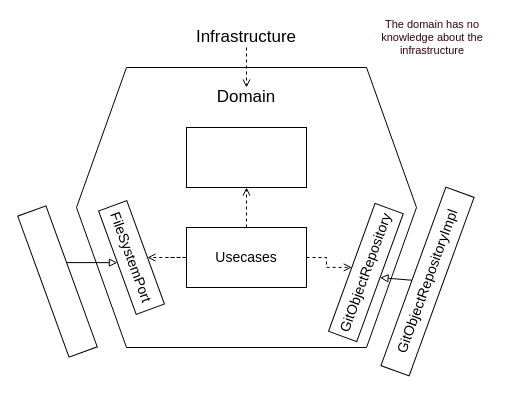
The diagram is 520 pixels wide and 394 high, and some of its shapes have lost their labels. The box of each missing label's shape, as (x1, y1, x2, y2) in pixels:
FileSystemAdapter: (17, 205, 97, 357)
Model: (186, 126, 306, 188)
